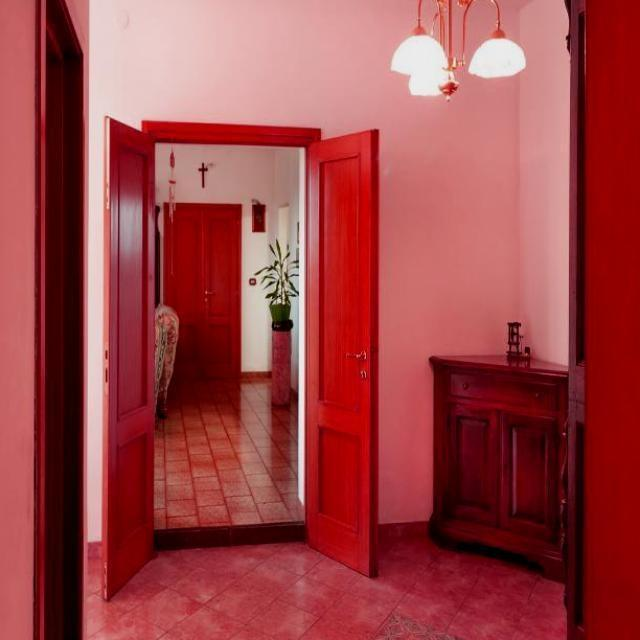door: (303, 127, 378, 577), (96, 113, 160, 604)
